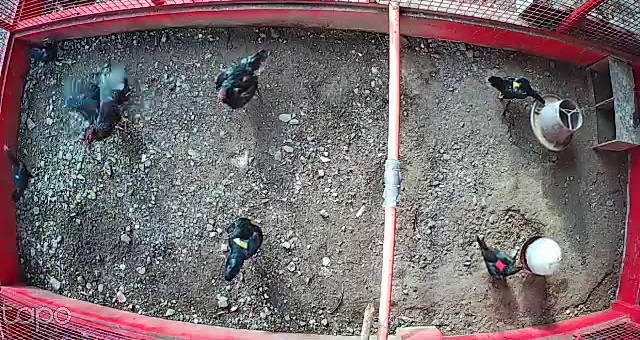Chicken: (212, 45, 277, 115), (219, 211, 269, 280), (471, 229, 528, 283), (4, 143, 49, 207), (482, 72, 547, 110)
Rooster: (58, 57, 138, 144)
Saddle_Color_Red: (494, 258, 505, 270)
Saddle_Color_Yellow: (512, 80, 522, 92)
Saddle_Color_YellowGreen: (228, 231, 250, 250)
